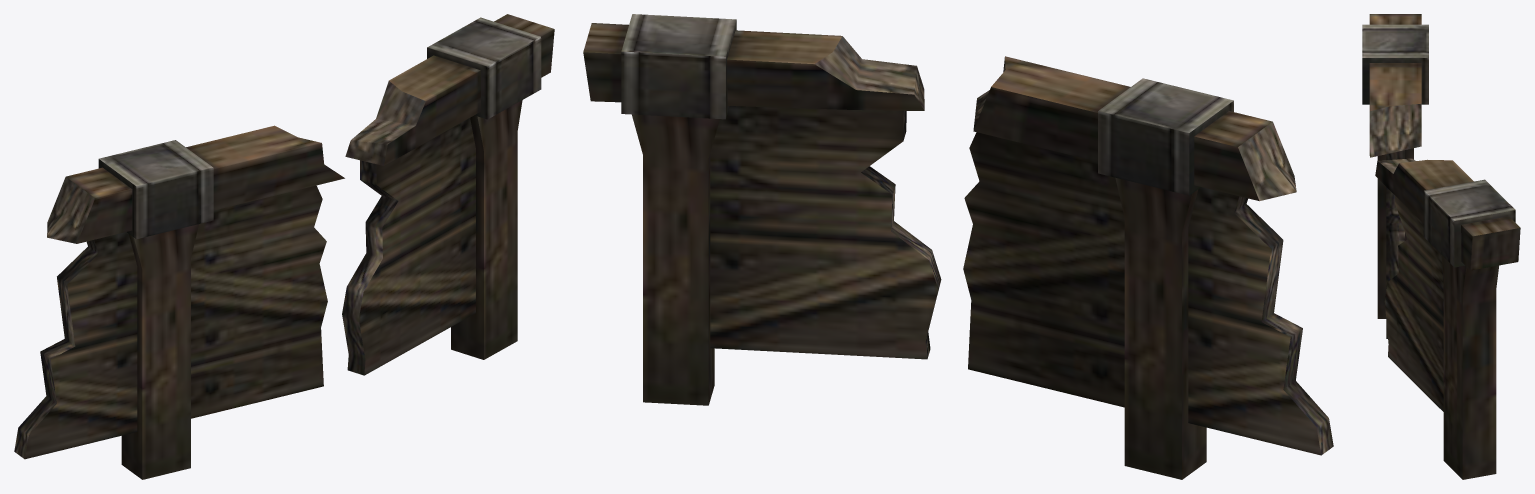
The model's file is Treasure_Enclosure_03.FBX.
3 views of the same model, side by side, from view 1: azimuth 30°, elevation 25°; view 2: azimuth 150°, elevation 25°; view 3: azimuth 270°, elevation 25° (orthographic). The views are drawn at different scales.
Parts seen in each view (by area): view 1: Treasure_Enclosure_03; view 2: Treasure_Enclosure_03; view 3: Treasure_Enclosure_03.
Part boxes in pixels (left/top/right/bottom): Treasure_Enclosure_03: left=14, top=14, right=554, bottom=479; Treasure_Enclosure_03: left=583, top=14, right=1333, bottom=479; Treasure_Enclosure_03: left=1362, top=14, right=1520, bottom=479.
Bounding box in the file's own units: 2.43 × 1.22 × 0.6531.
